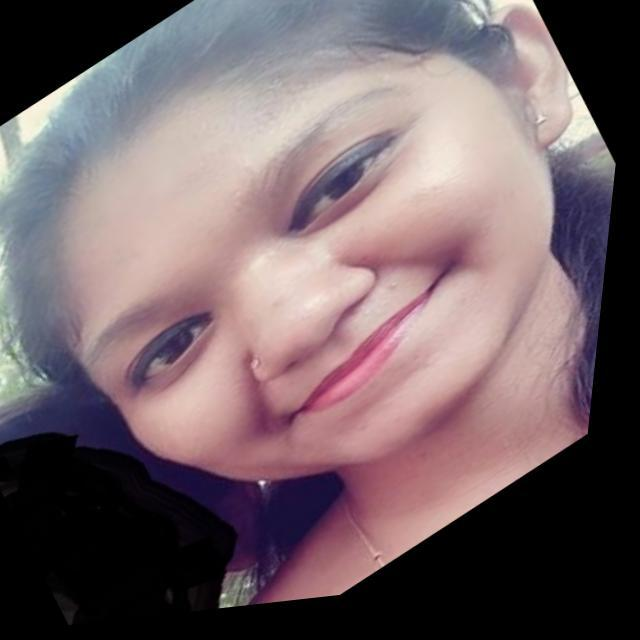Nonhelmet: (37, 0, 554, 482)
